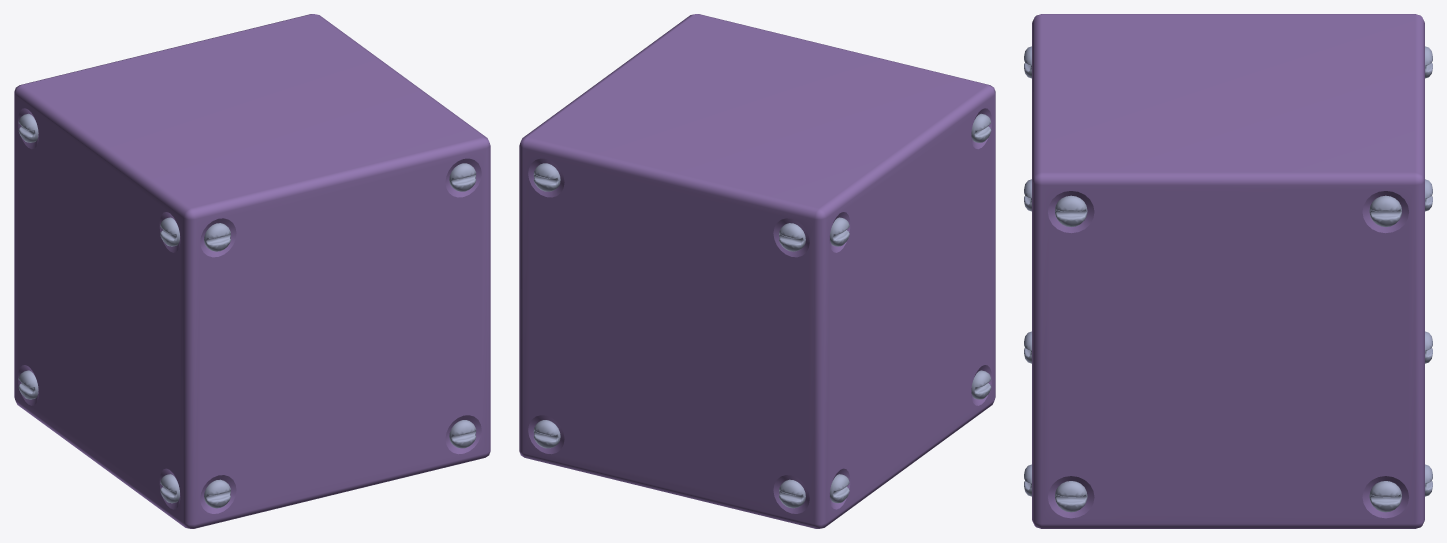
3 views of the same model, side by side, from view 1: azimuth 30°, elevation 25°; view 2: azimuth 150°, elevation 25°; view 3: azimuth 270°, elevation 25° (orthographic). The views are drawn at different scales.
Visible parts, largest first — view 1: Small; view 2: Small; view 3: Small.
Boxes of the visible parts, <box> form: Small: <box>14,14,490,528</box>; Small: <box>519,14,995,528</box>; Small: <box>1024,14,1432,528</box>.
Bounding box in the file's own units: 1.04 × 1 × 1.04.
Materials: 1 (1 with a texture image).
